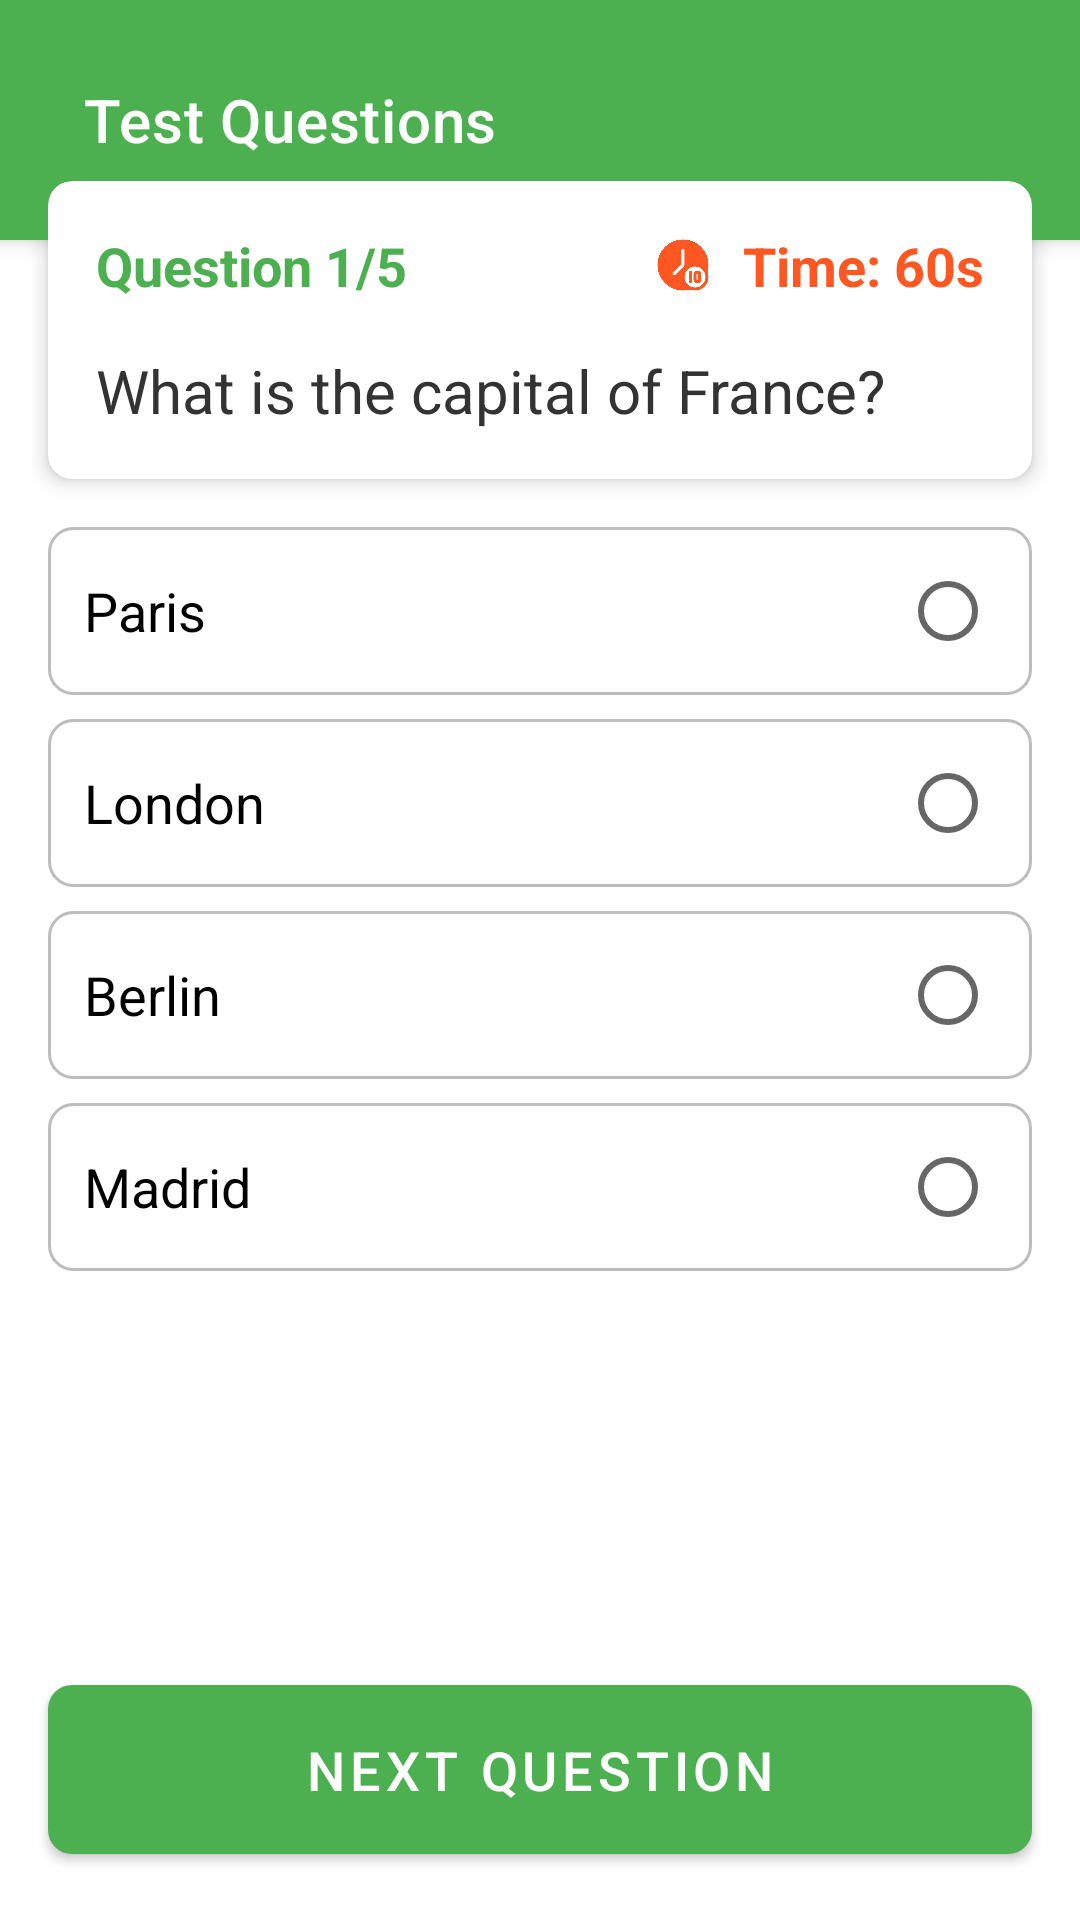

Named icons in this screenshot (1080 x 1920) and their bounding boxes, {"x1": x1, "y1": y1, "x2": x2, "y2": y2}:
timer: {"x1": 657, "y1": 239, "x2": 709, "y2": 291}
